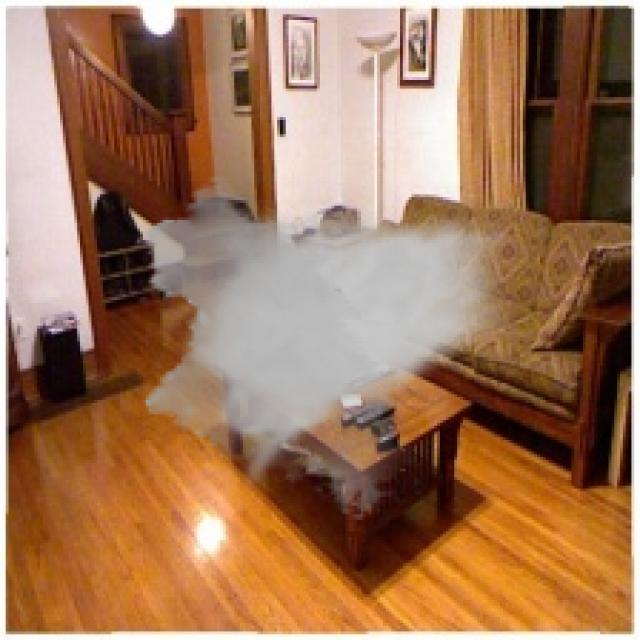smoke: (134, 174, 517, 523)
